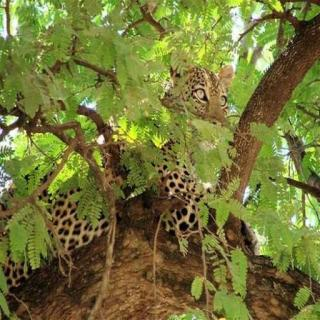Leopard: (146, 52, 238, 194)
